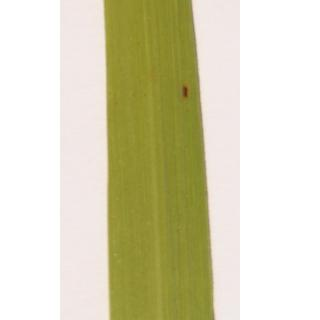bercak-Cokelat: (177, 80, 191, 100)
